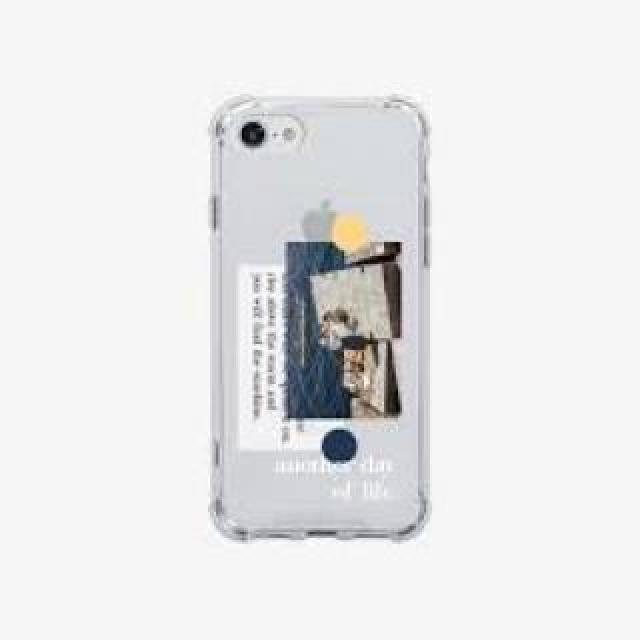smart phone: (205, 33, 452, 580)
